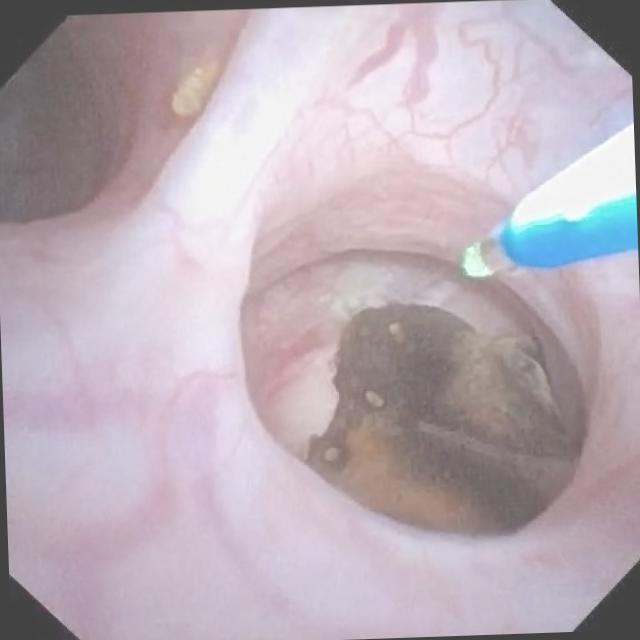laser-fibre: (464, 232, 514, 275)
laser_dot: (331, 275, 380, 319)
stone-new: (307, 303, 578, 530)
